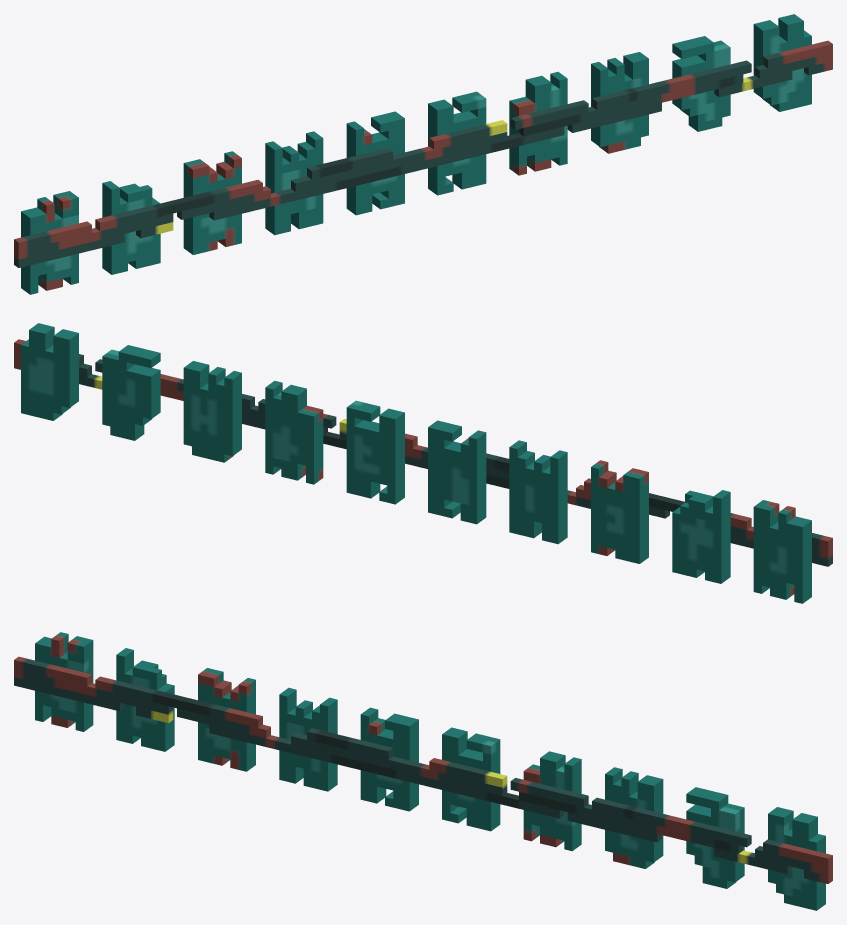
File: Skeleton_Fence.fbx
The picture shows the model from 3 angles, top to bottom: view 1: azimuth 30°, elevation 25°; view 2: azimuth 150°, elevation 25°; view 3: azimuth 330°, elevation 25°; orthographic projection.
Parts seen in each view (by area): view 1: Matrix; view 2: Matrix; view 3: Matrix.
Part boxes in pixels (x1,y1,x2,y2): Matrix: [14, 14, 832, 294]; Matrix: [14, 323, 832, 603]; Matrix: [14, 632, 832, 910].
Bounding box in the file's own units: 1517 × 152 × 45.51.
Materials: 1 (1 with a texture image).
